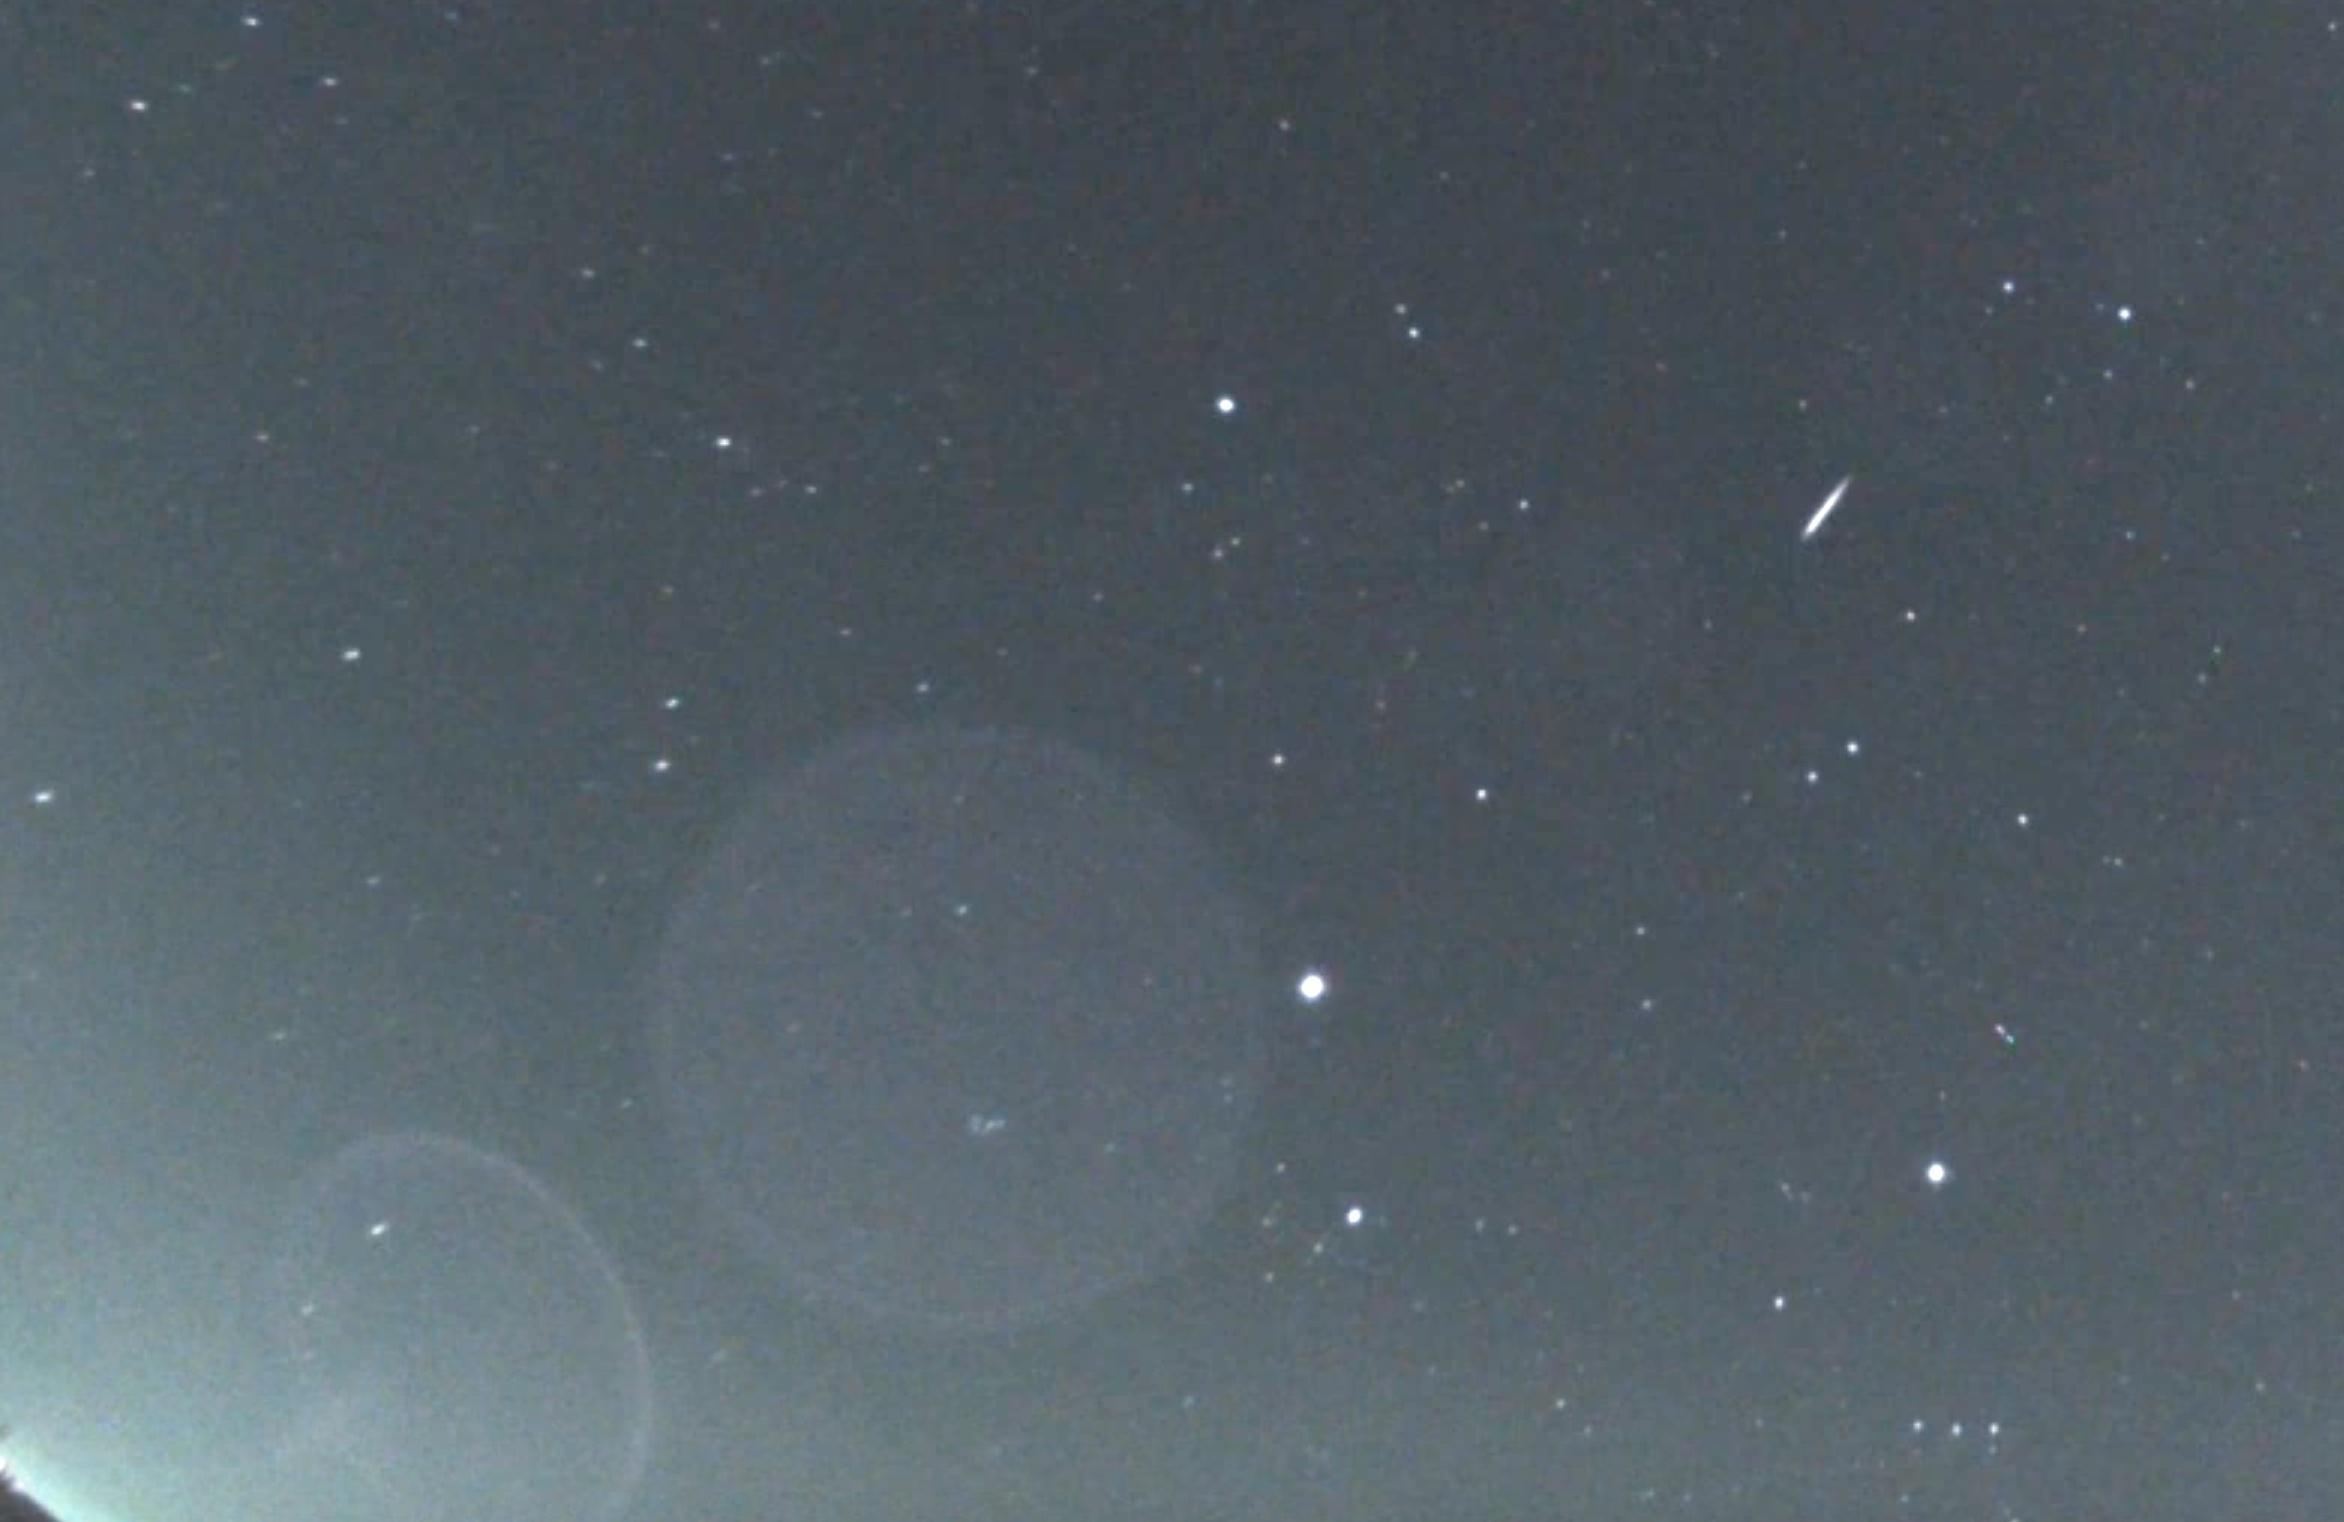Plane: (1989, 996, 2033, 1061)
meteorite: (1770, 439, 1881, 574)
